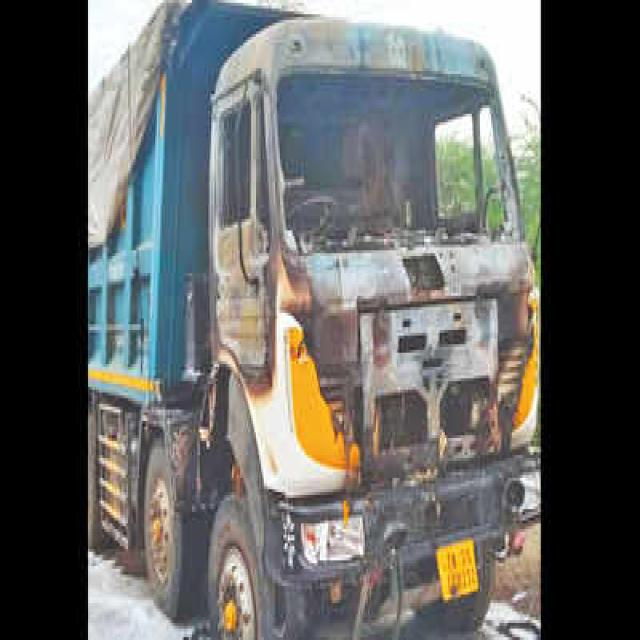accident: (90, 4, 544, 638)
